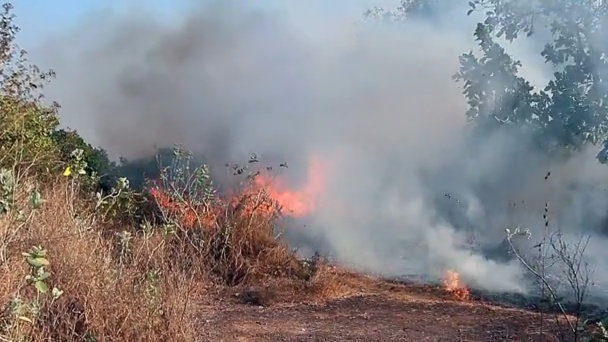fire: (275, 193, 312, 213), (443, 270, 457, 291), (63, 166, 70, 175)
